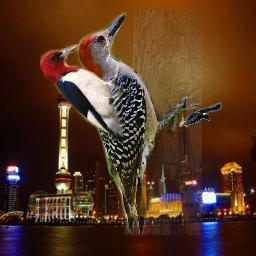Crow: (181, 102, 222, 126)
Woodpecker: (70, 10, 202, 235), (39, 44, 123, 144)
